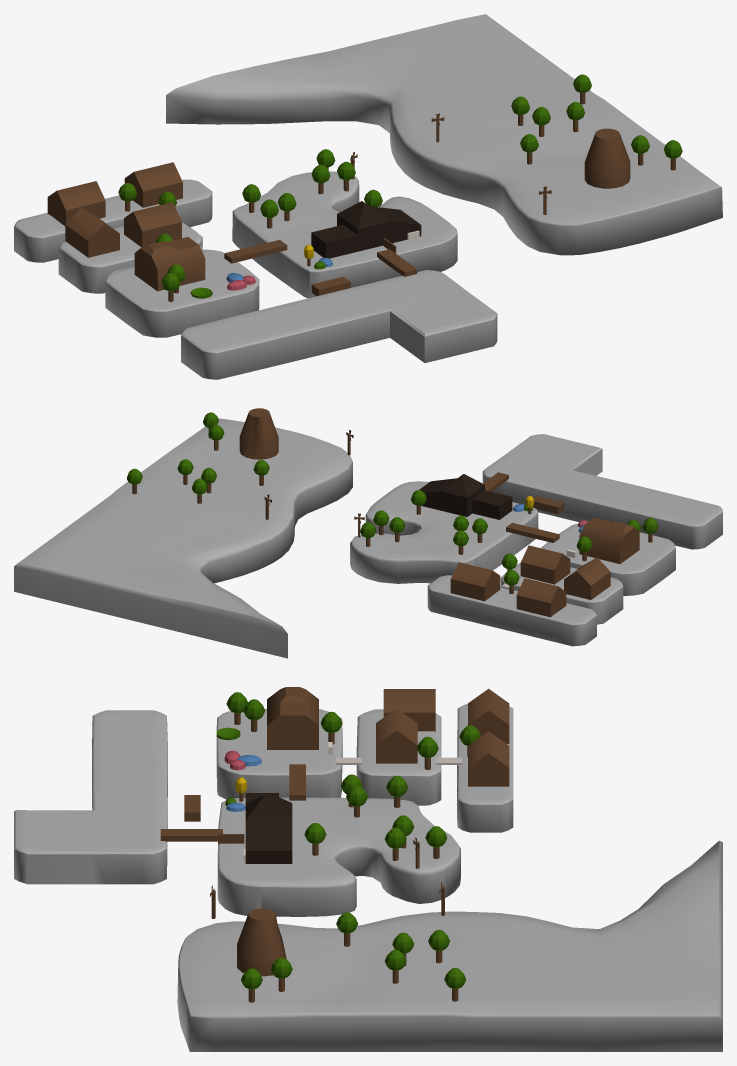
The model's file is Blockout.fbx.
3 renders of one model, top to bottom at view 1: azimuth 30°, elevation 25°; view 2: azimuth 150°, elevation 25°; view 3: azimuth 270°, elevation 25°, orthographic. The views are drawn at different scales.
Parts seen in each view (by area): view 1: platform_weerribben, platform_front, platform_museum, paltform_boerderij, platform_huizen_back, museum, platform_huizen_front, boerderij, molen, huisLF, huisRF, huisLB (+2 smaller); view 2: platform_weerribben, platform_front, platform_museum, platform_huizen_back, paltform_boerderij, museum, boerderij, molen, platform_huizen_front, huisRF, huisRB, huisLB (+2 smaller); view 3: platform_weerribben, platform_museum, platform_front, paltform_boerderij, platform_huizen_front, platform_huizen_back, museum, boerderij, molen, huisRB, huisRF, huisLF (+3 smaller).
Boxes of the visible parts, x1,y1,x2,y2 form: platform_weerribben: [166, 14, 722, 255]; platform_front: [181, 270, 497, 379]; platform_museum: [232, 171, 457, 298]; paltform_boerderij: [105, 249, 259, 337]; platform_huizen_back: [14, 179, 212, 262]; museum: [311, 201, 421, 258]; platform_huizen_front: [58, 222, 202, 293]; boerderij: [134, 237, 205, 291]; molen: [584, 128, 630, 188]; huisLF: [65, 207, 119, 257]; huisRF: [124, 202, 181, 247]; huisLB: [47, 181, 105, 225]; platform_weerribben: [14, 418, 352, 658]; platform_front: [482, 434, 722, 549]; platform_museum: [350, 481, 538, 583]; platform_huizen_back: [427, 575, 596, 646]; paltform_boerderij: [541, 523, 675, 595]; museum: [419, 474, 512, 519]; boerderij: [579, 517, 639, 563]; molen: [239, 408, 278, 459]; platform_huizen_front: [500, 562, 623, 624]; huisRF: [520, 545, 570, 584]; huisRB: [450, 562, 500, 601]; huisLB: [516, 578, 566, 617]; platform_weerribben: [177, 840, 722, 1051]; platform_museum: [217, 797, 460, 916]; platform_front: [14, 710, 167, 884]; paltform_boerderij: [216, 709, 342, 799]; platform_huizen_front: [356, 709, 441, 805]; platform_huizen_back: [457, 704, 513, 832]; museum: [245, 793, 292, 863]; boerderij: [267, 687, 318, 749]; molen: [237, 908, 286, 976]; huisRB: [468, 731, 509, 786]; huisRF: [376, 708, 417, 763]; huisLF: [383, 689, 435, 731].
Size of the model in its own units: 71.84 by 9.73 by 68.31.
